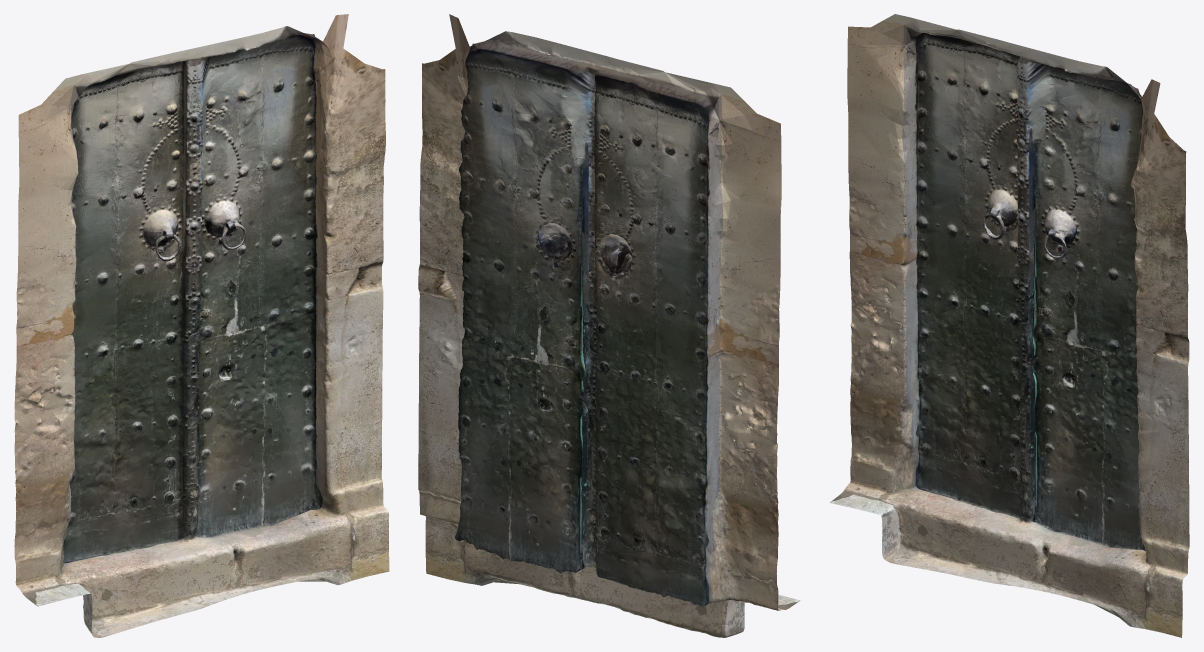
The model's file is traditional-door-medina-tunis.glb.
3 views of the same model, side by side, from view 1: azimuth 30°, elevation 25°; view 2: azimuth 150°, elevation 25°; view 3: azimuth 330°, elevation 25° (orthographic). The views are drawn at different scales.
Parts seen in each view (by area): view 1: Object_3; view 2: Object_3; view 3: Object_3.
Boxes of the visible parts, x1,y1,x2,y2 form: Object_3: [14, 14, 389, 637]; Object_3: [418, 14, 800, 637]; Object_3: [830, 14, 1189, 637].
Bounding box in the file's own units: 1.68 × 2.51 × 0.2861.
1 material, 1 textured.
